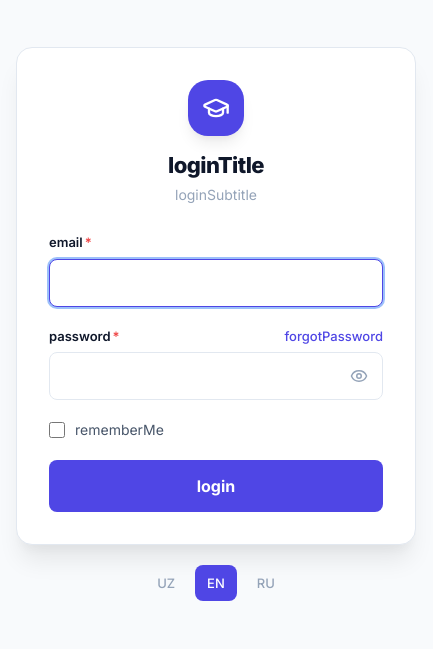
Test: LoginPage › API error handling › shows general error alert when API returns non-field error
The image size is (433, 649).
Type "test@test.com" into the field labelled "email*" at (216, 283), box [49,259,383,307]
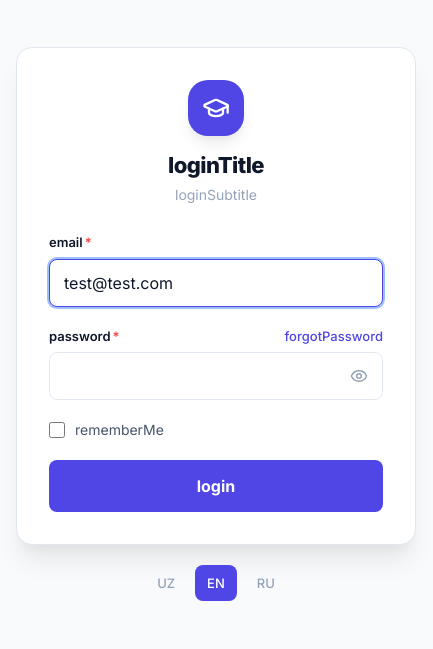
Type "wrongpass" into the password field labelled "password*" at (216, 376), box [49,352,383,400]
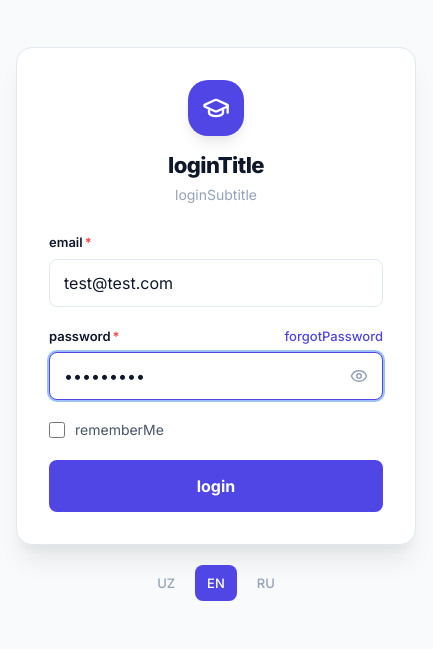
Click the button "login" at (216, 486), box [49,460,383,512]
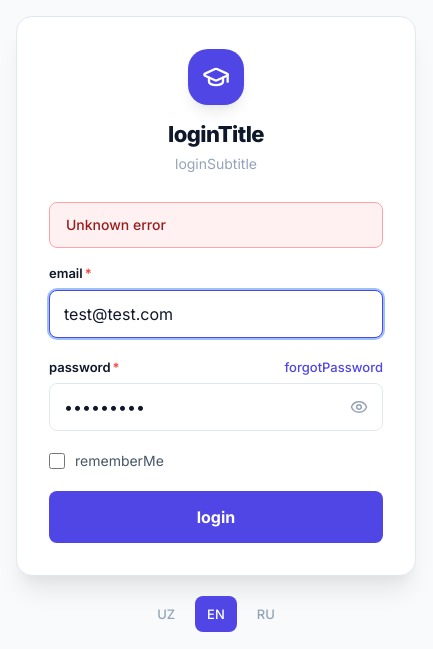
Expected: the message "Unknown error" is shown, [49,202,383,248]
